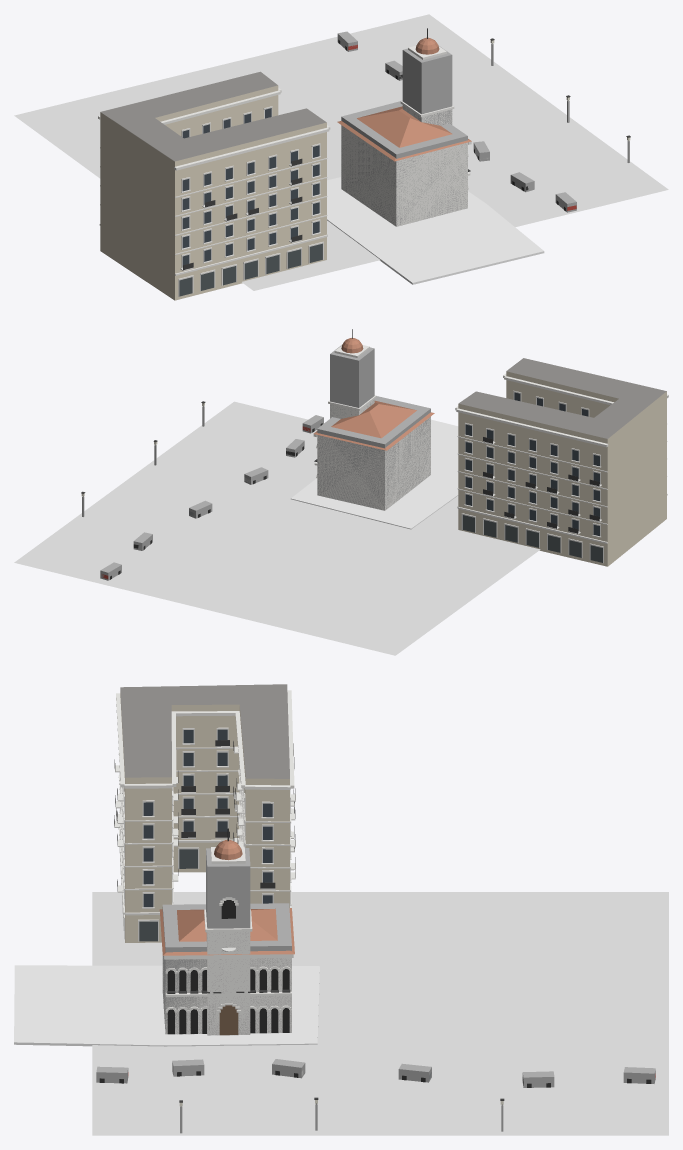
The model's file is chunk_01_02.glb.
3 views of the same model, one above another, from view 1: azimuth 30°, elevation 25°; view 2: azimuth 150°, elevation 25°; view 3: azimuth 270°, elevation 25° (orthographic). The views are drawn at different scales.
Parts seen in each view (by area): view 1: chunk_01_02_LOD0, chunk_01_02_COL; view 2: chunk_01_02_LOD0, chunk_01_02_COL; view 3: chunk_01_02_LOD0, chunk_01_02_COL.
Boxes of the visible parts, box(x1,y1,x2,y2) form: chunk_01_02_LOD0: box(14, 14, 668, 300); chunk_01_02_COL: box(337, 31, 629, 226); chunk_01_02_LOD0: box(14, 329, 668, 655); chunk_01_02_COL: box(82, 345, 430, 580); chunk_01_02_LOD0: box(14, 684, 668, 1135); chunk_01_02_COL: box(96, 848, 655, 1133).
Size of what is drawn, in the model's own units: 94.06 by 30.7 by 90.89.
